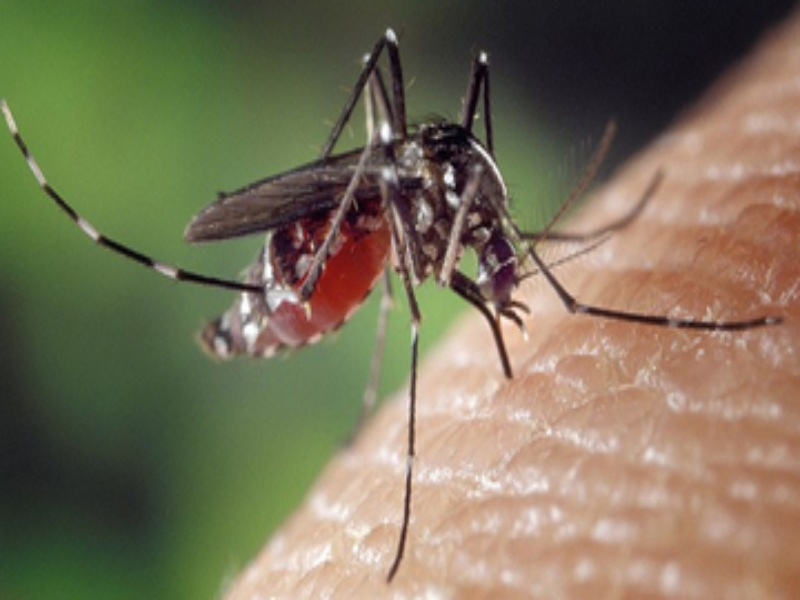dengue_mosquito: (103, 27, 530, 321)
